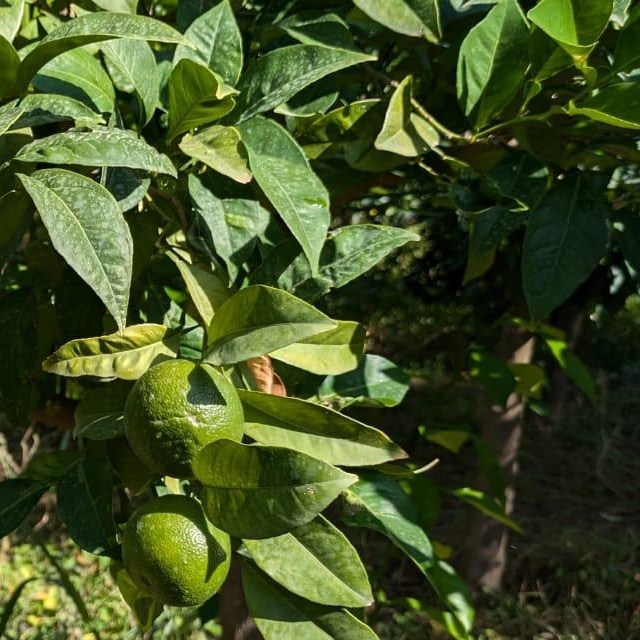orange: (119, 347, 239, 493), (116, 499, 220, 611)
